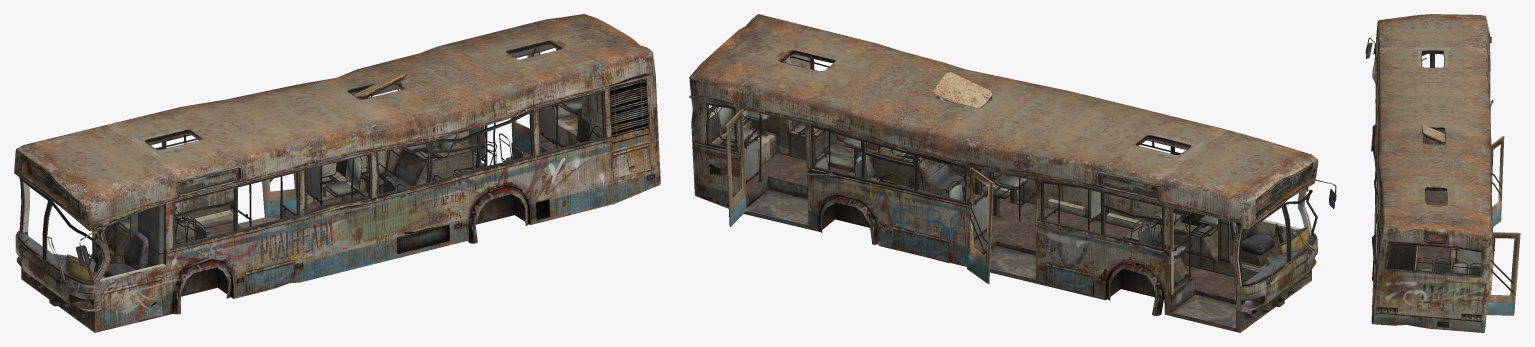
File: destroyed-bus.glb
3 views of the same model, side by side, from view 1: azimuth 30°, elevation 25°; view 2: azimuth 150°, elevation 25°; view 3: azimuth 270°, elevation 25° (orthographic). The views are drawn at different scales.
Parts seen in each view (by area): view 1: mesh_0_veh\bus_01_0, mesh_1_veh\bus_02_0, mesh_3_veh\bus_04_0, mesh_4_veh\bus_05_0, mesh_2_veh\bus_03_0, mesh_5_metal\metal_tile_0; view 2: mesh_0_veh\bus_01_0, mesh_1_veh\bus_02_0, mesh_2_veh\bus_03_0, mesh_3_veh\bus_04_0, mesh_4_veh\bus_05_0, mesh_5_metal\metal_tile_0; view 3: mesh_0_veh\bus_01_0, mesh_4_veh\bus_05_0, mesh_2_veh\bus_03_0, mesh_1_veh\bus_02_0, mesh_5_metal\metal_tile_0, mesh_3_veh\bus_04_0.
Boxes of the visible parts, x1,y1,x2,y2 form: mesh_0_veh\bus_01_0: (14,14,660,332); mesh_1_veh\bus_02_0: (76,75,659,332); mesh_3_veh\bus_04_0: (15,41,606,303); mesh_4_veh\bus_05_0: (65,49,602,281); mesh_2_veh\bus_03_0: (22,40,607,284); mesh_5_metal\metal_tile_0: (103,141,561,277); mesh_0_veh\bus_01_0: (689,14,1318,332); mesh_1_veh\bus_02_0: (689,95,1336,332); mesh_2_veh\bus_03_0: (705,50,1311,327); mesh_3_veh\bus_04_0: (705,51,1317,309); mesh_4_veh\bus_05_0: (709,55,1309,287); mesh_5_metal\metal_tile_0: (745,153,1245,299); mesh_0_veh\bus_01_0: (1371,14,1492,332); mesh_4_veh\bus_05_0: (1415,136,1520,315); mesh_2_veh\bus_03_0: (1372,50,1490,270); mesh_1_veh\bus_02_0: (1365,33,1494,321); mesh_5_metal\metal_tile_0: (1416,131,1449,271); mesh_3_veh\bus_04_0: (1374,52,1482,275).
Bounding box in the file's own units: 14.71 × 3.8 × 4.37.
7 materials, 7 textured.
